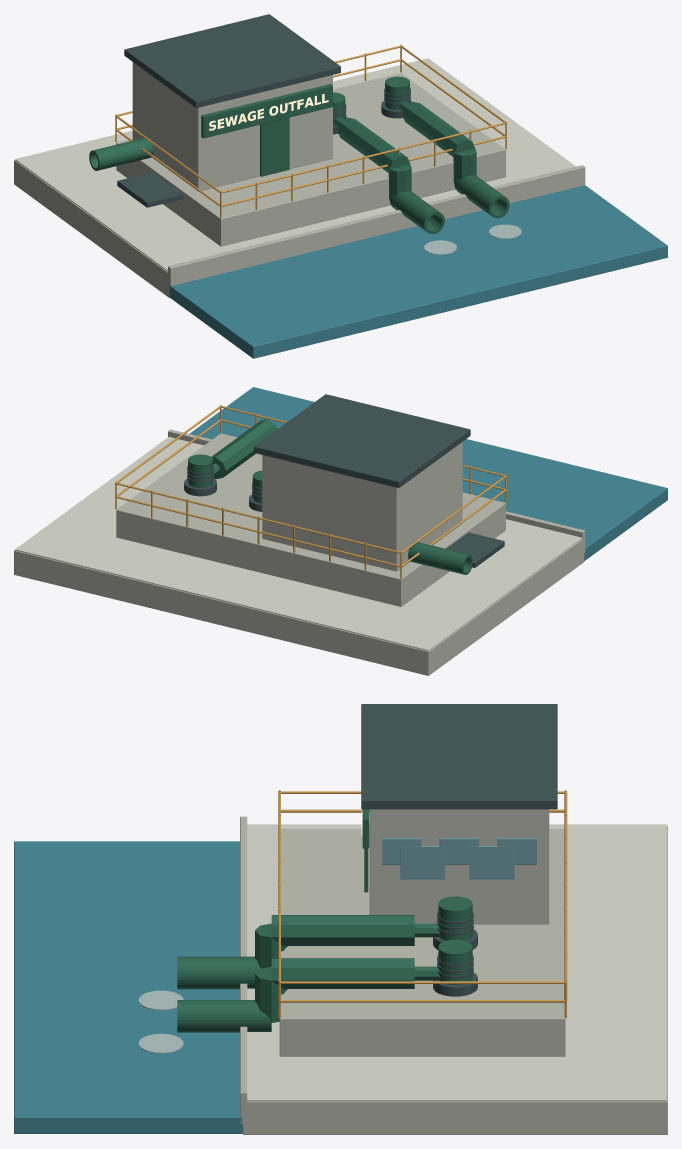
The model's file is water-sewage-outfall.glb.
3 views of the same model, one above another, from view 1: azimuth 30°, elevation 25°; view 2: azimuth 150°, elevation 25°; view 3: azimuth 270°, elevation 25° (orthographic). The views are drawn at different scales.
Parts seen in each view (by area): view 1: Context_Water, LandFoundation, Context_LandSurface, DischargePumpHouse, DischargePumpHouseRoof, QuayWall, Context_ShoreLand, Nameplate, ServicePipe.001, ServicePipe.004, StaffDoor, AccessLanding (+9 smaller); view 2: Context_LandSurface, LandFoundation, DischargePumpHouse, Context_Water, Context_ShoreLand, DischargePumpHouseRoof, ServicePipe.004, SewageConnection, AccessLanding, QuayWall, SafetyRail.002, SafetyRail.003 (+1 smaller); view 3: Context_Water, Context_LandSurface, LandFoundation, DischargePumpHouseRoof, Context_ShoreLand, DischargePumpHouse, ServicePipe.001, ServicePipe.004, OutfallMouth.001, OutfallMouth, QuayWall, ControlWindow (+13 smaller).
Boxes of the visible parts, x1,y1,x2,y2 form: Context_Water: (169,185,667,358); LandFoundation: (116,73,505,246); Context_LandSurface: (15,58,575,271); DischargePumpHouse: (132,62,332,191); DischargePumpHouseRoof: (124,14,340,108); QuayWall: (168,165,585,289); Context_ShoreLand: (14,160,169,297); Nameplate: (201,84,332,138); ServicePipe.001: (337,117,410,172); ServicePipe.004: (402,101,474,156); StaffDoor: (260,117,289,176); AccessLanding: (117,172,183,207); Context_LandSurface: (15,437,581,650); LandFoundation: (116,433,505,606); DischargePumpHouse: (262,442,462,571); Context_Water: (189,387,667,560); Context_ShoreLand: (14,539,584,675); DischargePumpHouseRoof: (254,394,470,487); ServicePipe.004: (211,419,276,479); SewageConnection: (408,541,472,574); AccessLanding: (446,532,504,567); QuayWall: (168,429,585,554); SafetyRail.002: (115,496,400,567); SafetyRail.003: (115,482,400,553); Context_Water: (14,841,242,1133); Context_LandSurface: (247,824,666,1101); LandFoundation: (279,829,565,1056); DischargePumpHouseRoof: (361,704,557,809); Context_ShoreLand: (243,825,667,1134); DischargePumpHouse: (369,809,549,924); ServicePipe.001: (271,915,414,945); ServicePipe.004: (271,958,414,988); OutfallMouth.001: (177,1000,271,1032); OutfallMouth: (177,956,261,989); QuayWall: (240,816,247,1123); ControlWindow: (400,846,445,879).
Bounding box in the file's own units: 16 × 5.44 × 16.
